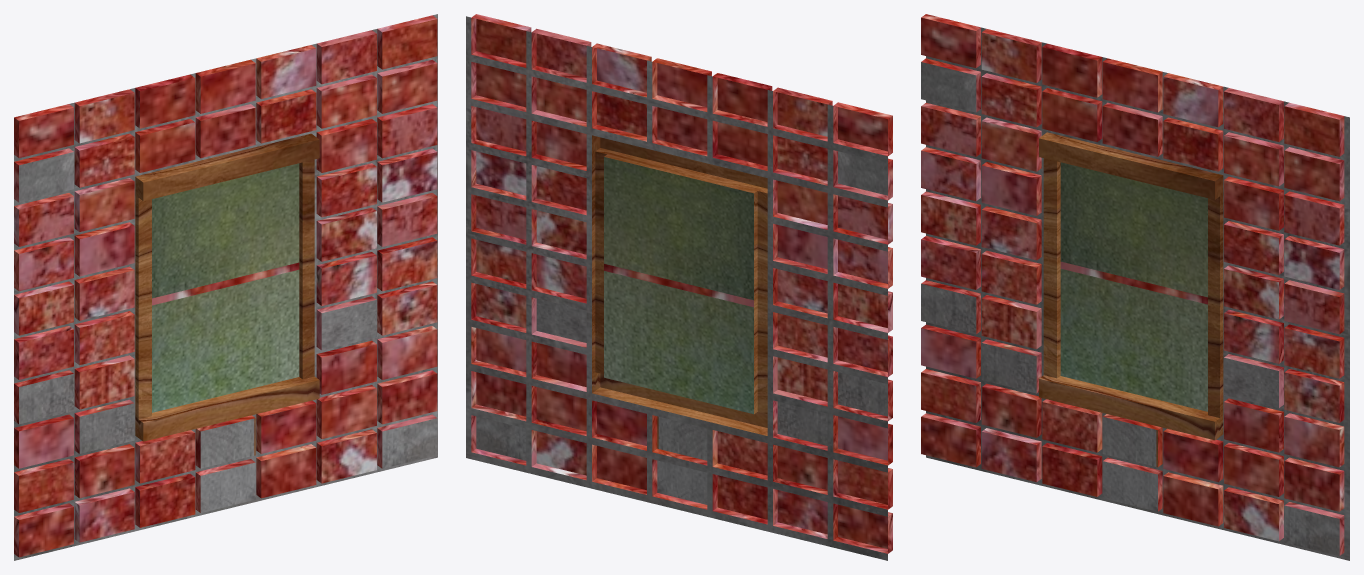
Rendered from Pared_003.fbx.
The picture shows the model from 3 angles, left to right: view 1: azimuth 30°, elevation 25°; view 2: azimuth 150°, elevation 25°; view 3: azimuth 330°, elevation 25°; orthographic projection.
Visible parts, largest first — view 1: Plane; view 2: Plane; view 3: Plane.
Boxes of the visible parts, x1,y1,x2,y2 form: Plane: [14, 14, 437, 560]; Plane: [466, 14, 892, 560]; Plane: [921, 14, 1349, 560].
Size of the model in its own units: 600 by 600 by 20.29.
